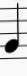note: (4, 1, 21, 62)
